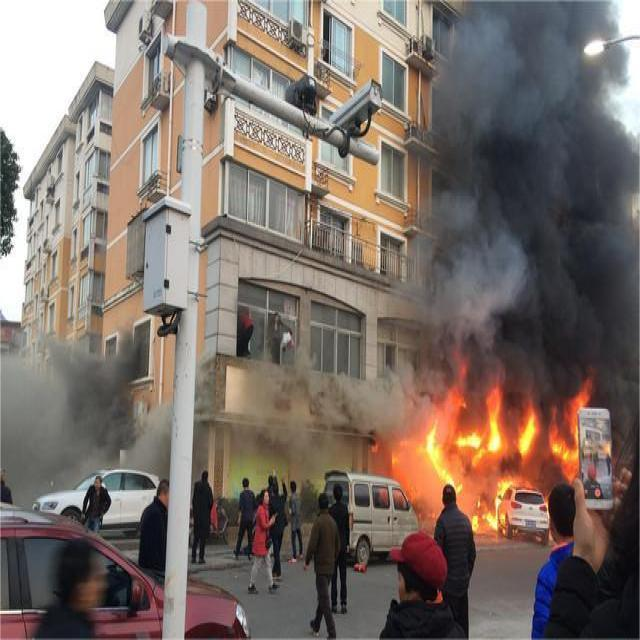Fire: (426, 422, 464, 494), (550, 409, 579, 465), (460, 418, 501, 457), (470, 488, 502, 531), (513, 413, 536, 459)
Smoke: (414, 0, 640, 353), (0, 327, 142, 509), (338, 366, 426, 444)
